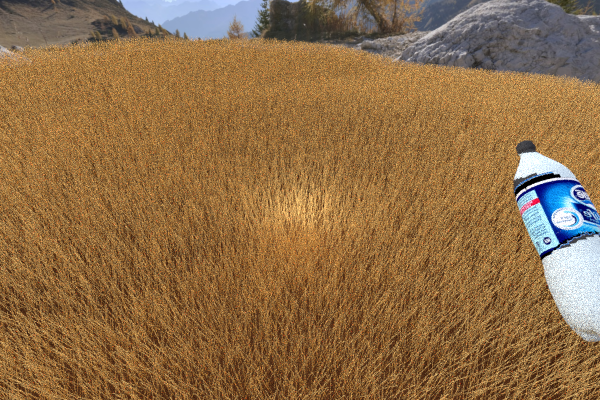bottle: (513, 140, 600, 343)
